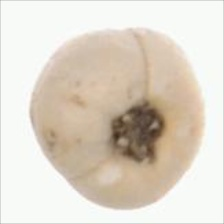L4: (28, 26, 205, 210)
